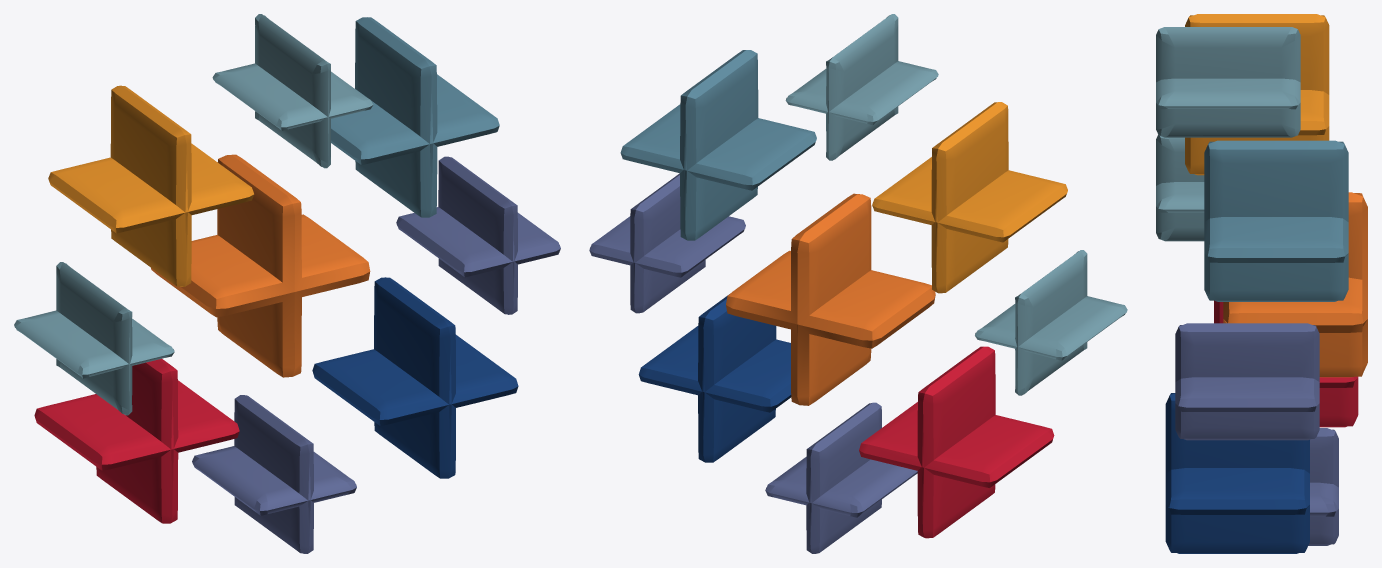
The model's file is tableau.gltf.
The picture shows the model from 3 angles, left to right: view 1: azimuth 30°, elevation 25°; view 2: azimuth 150°, elevation 25°; view 3: azimuth 270°, elevation 25°; orthographic projection. The views are drawn at different scales.
Parts seen in each view (by area): view 1: Path (×8); view 2: Path (×8); view 3: Path (×8).
Part boxes in pixels (x1,y1,x2,y2): Path (×8): (14,14,560,553); Path (×8): (589,14,1127,553); Path (×8): (1156,14,1367,553).
Bounding box in the file's own units: 0.0603 × 0.0595 × 0.022.
